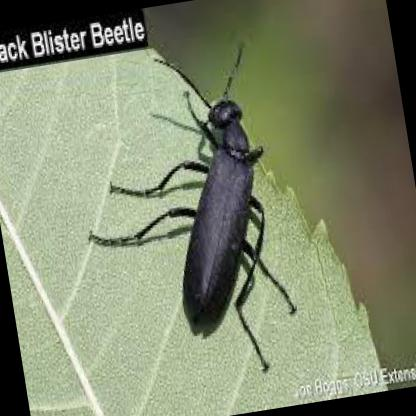blister beetle: (154, 41, 266, 325)
